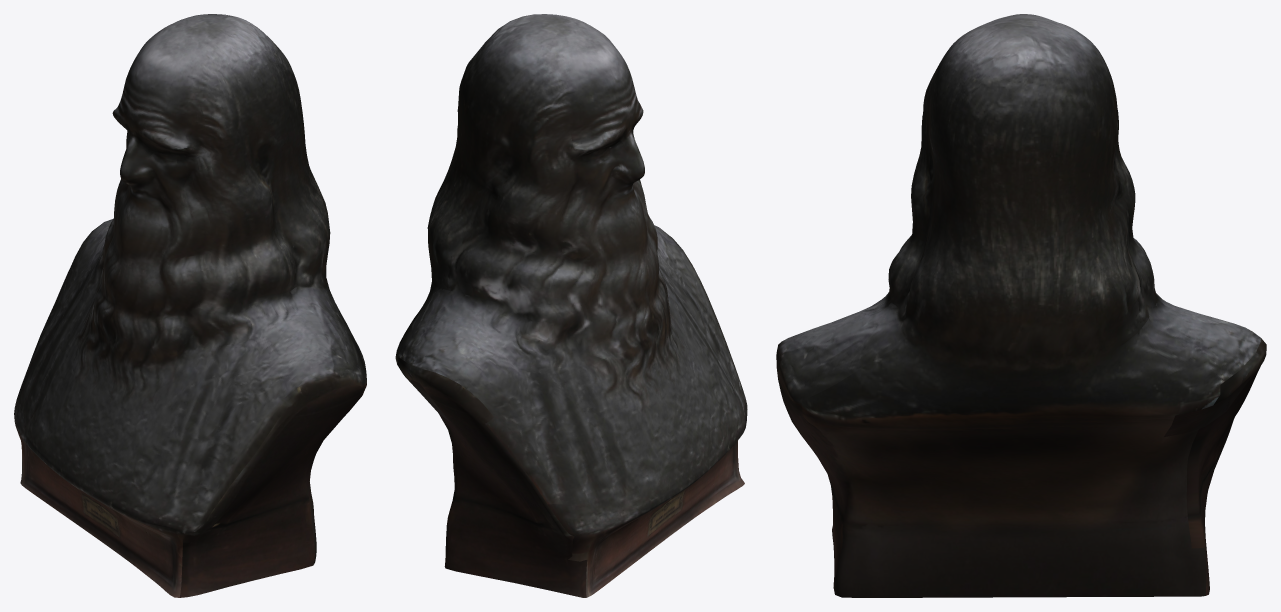
The model's file is sala 4 escultura 02.FBX.
3 renders of one model, left to right at view 1: azimuth 30°, elevation 25°; view 2: azimuth 150°, elevation 25°; view 3: azimuth 270°, elevation 25°, orthographic. The views are drawn at different scales.
Visible parts, largest first — view 1: Box003; view 2: Box003; view 3: Box003.
Boxes of the visible parts, box(x1,y1,x2,y2) form: Box003: box(14, 14, 366, 597); Box003: box(395, 14, 747, 597); Box003: box(776, 14, 1266, 597).
Bounding box in the file's own units: 149 × 223 × 280.
1 material, 1 textured.
